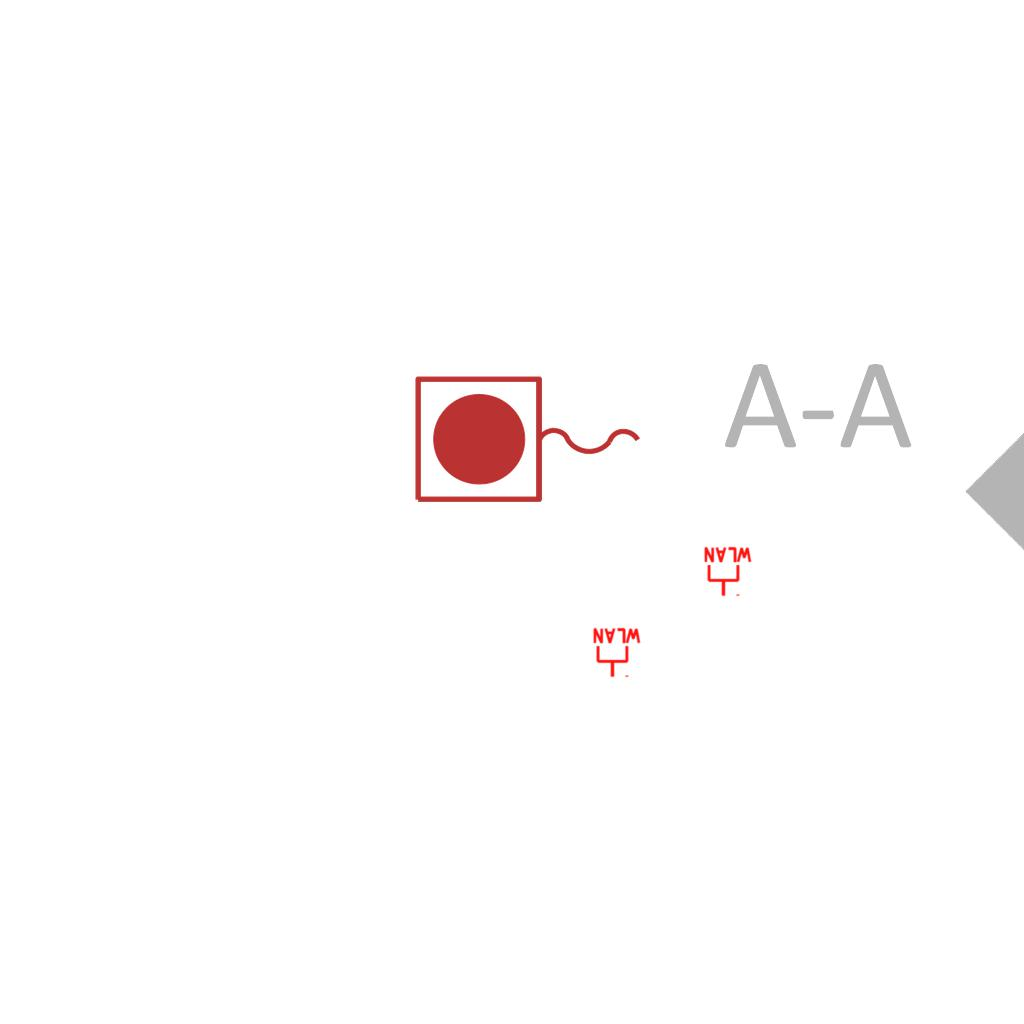WLAN: (702, 546, 754, 598), (591, 627, 643, 679)
Zugtaster: (407, 369, 651, 513)
